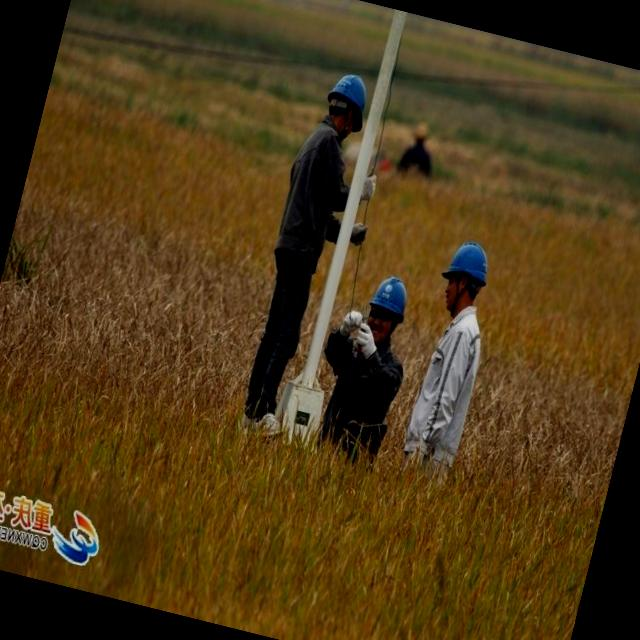helmet: (318, 65, 378, 128), (438, 234, 502, 291), (366, 272, 416, 322)
no-vest: (268, 118, 358, 258), (410, 298, 487, 450)
